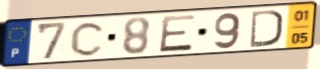7: (35, 21, 70, 61)
8: (122, 15, 152, 56)
9: (213, 11, 243, 50)
C: (69, 20, 108, 58)
D: (249, 8, 285, 49)
E: (157, 13, 198, 54)
